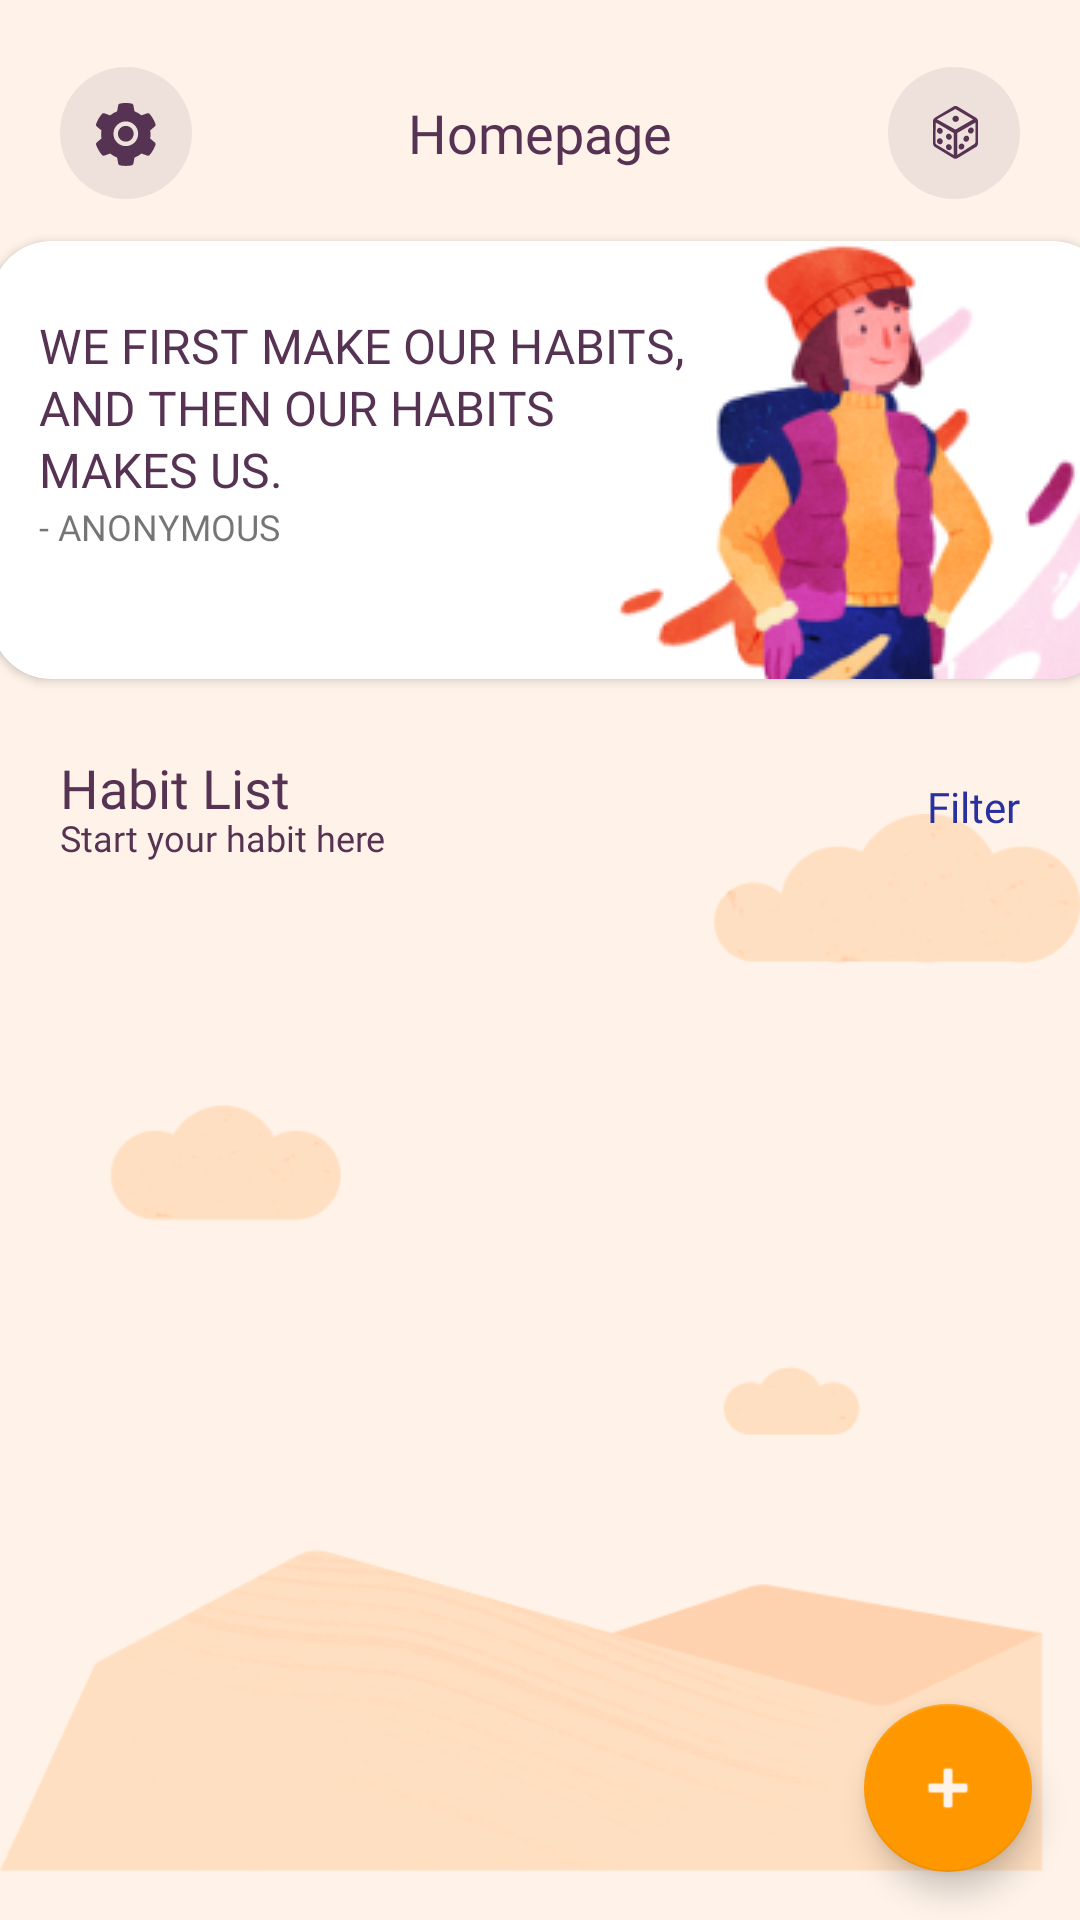

Locate icon controls on the screen. Image size 1080px×1920px, boxes as (x1, y1, x2, y2).
Add Habit: (864, 1704, 1032, 1872)
random: (888, 67, 1020, 199)
setting: (96, 103, 156, 166)
